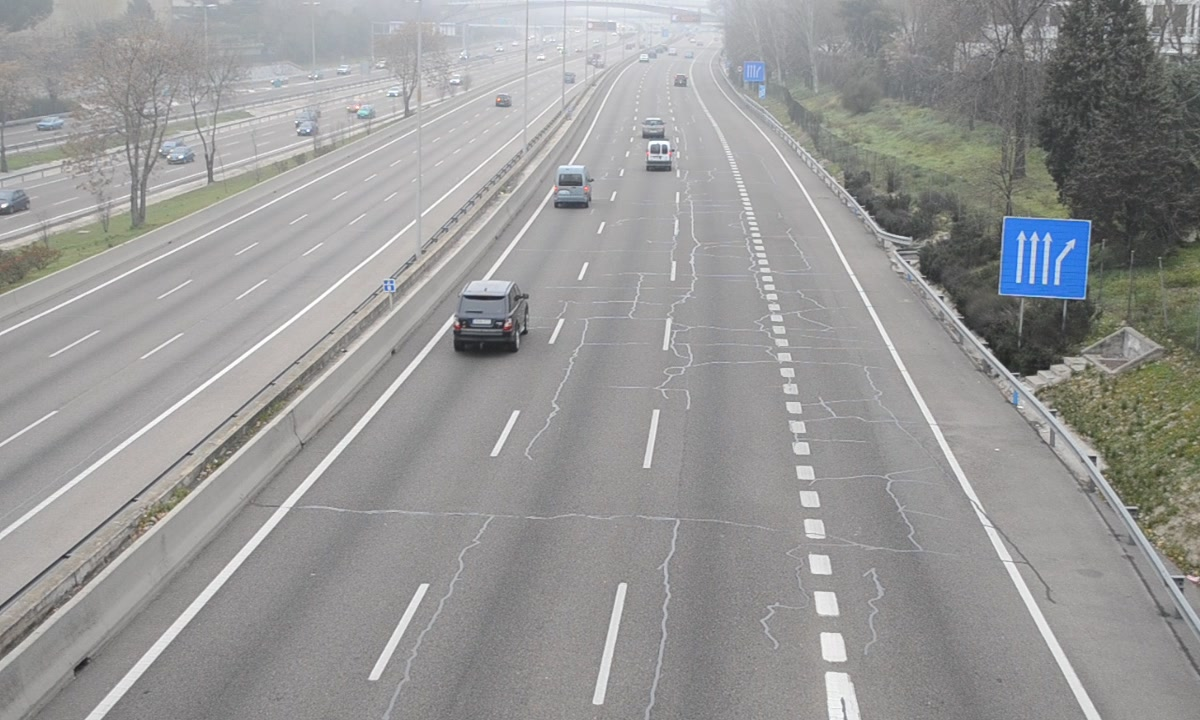car: (453, 281, 526, 346)
van: (553, 164, 591, 205), (645, 138, 673, 173)
